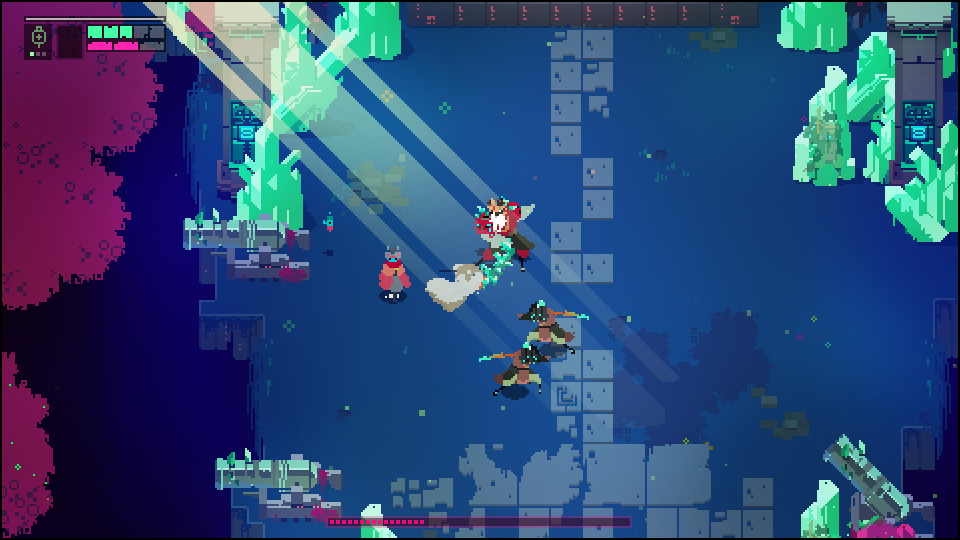hanged_man: (466, 193, 541, 295)
player: (377, 244, 411, 303)
